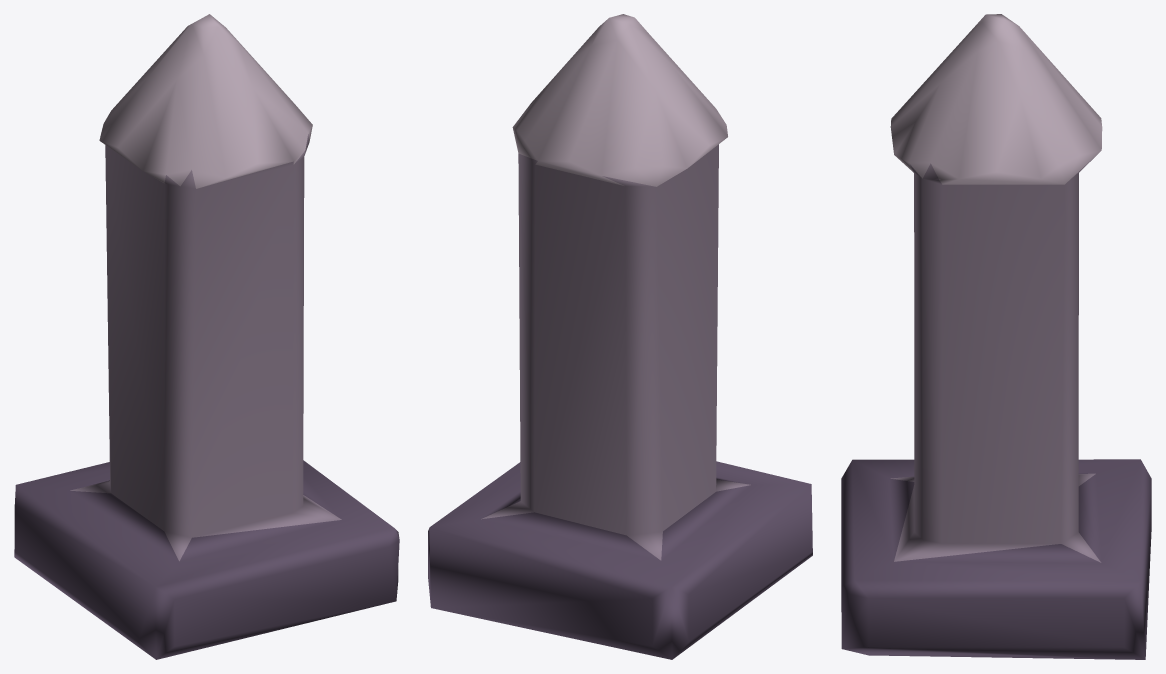
The model's file is grave_c.glb.
3 renders of one model, left to right at view 1: azimuth 30°, elevation 25°; view 2: azimuth 150°, elevation 25°; view 3: azimuth 270°, elevation 25°, orthographic. The views are drawn at different scales.
Parts seen in each view (by area): view 1: grave_c; view 2: grave_c; view 3: grave_c.
Part boxes in pixels (x1,y1,x2,y2): grave_c: (14,14,399,659); grave_c: (428,14,812,659); grave_c: (841,14,1151,659).
Size of the model in its own units: 0.68 by 1.41 by 0.68.
